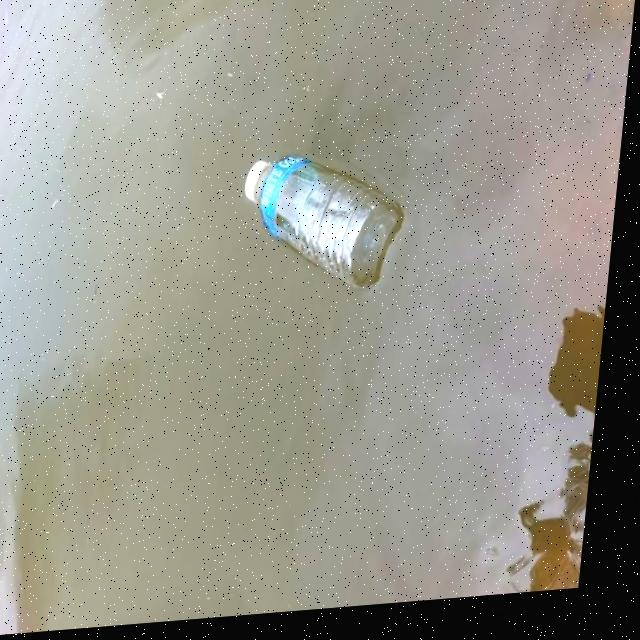waterbottle: (230, 143, 440, 329)
